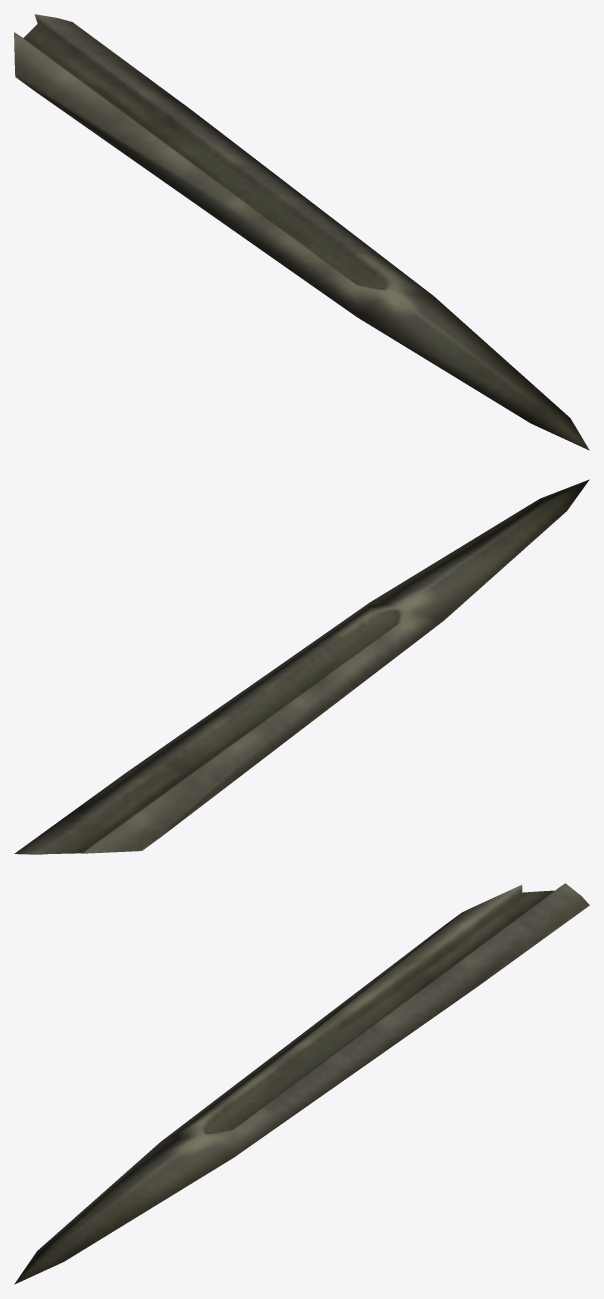
File: TI_Statue_01_D_Part_03.fbx
The picture shows the model from 3 angles, top to bottom: view 1: azimuth 30°, elevation 25°; view 2: azimuth 150°, elevation 25°; view 3: azimuth 330°, elevation 25°; orthographic projection. The views are drawn at different scales.
Parts seen in each view (by area): view 1: TI_Statue_01_D_Part_03; view 2: TI_Statue_01_D_Part_03; view 3: TI_Statue_01_D_Part_03.
Part boxes in pixels (<box>): TI_Statue_01_D_Part_03: <box>14,14,589,450</box>; TI_Statue_01_D_Part_03: <box>14,479,589,854</box>; TI_Statue_01_D_Part_03: <box>14,883,589,1284</box>.
Size of the model in its own units: 0.2615 by 0.0655 by 2.67.
